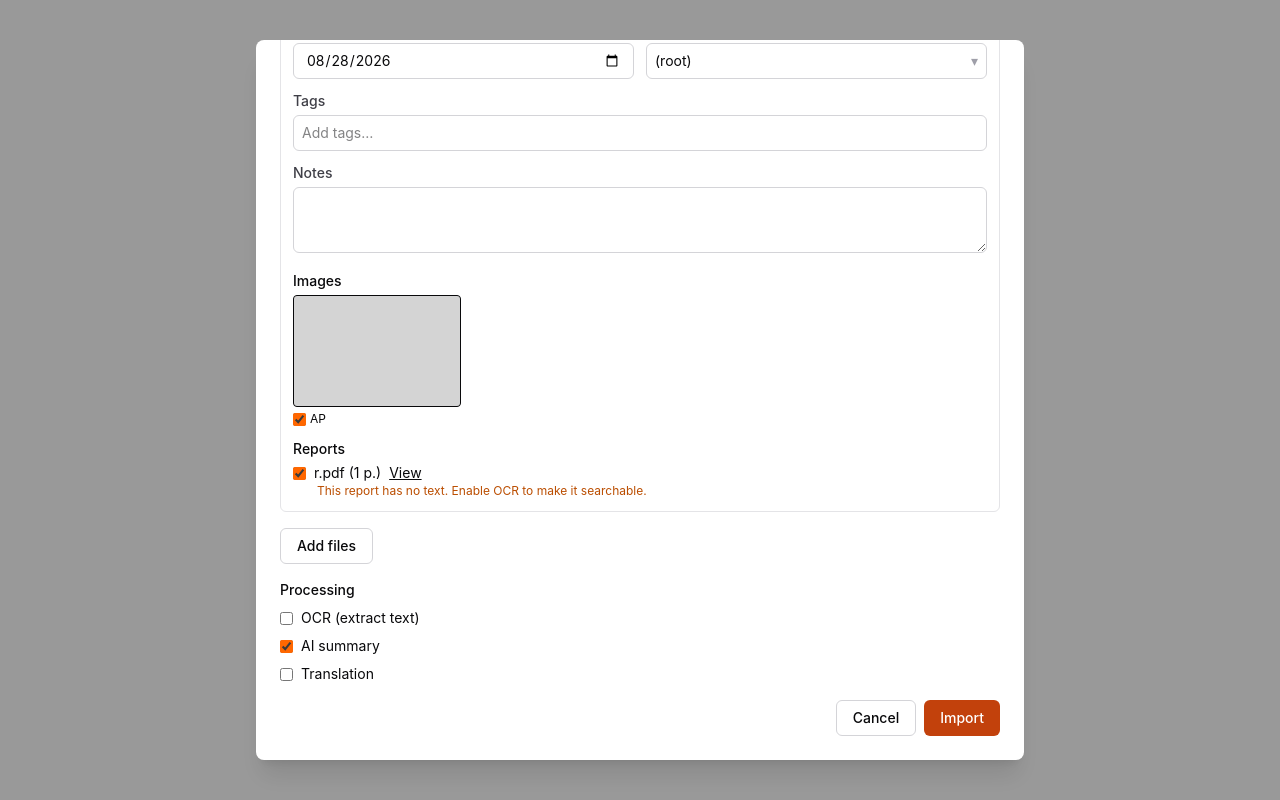
Test: DiscImportDialog › commits the study without tags
The width and height of the screenshot is (1280, 800).
(page scrolled)
Click the button "Import" at (962, 718), box [924,700,1000,736]
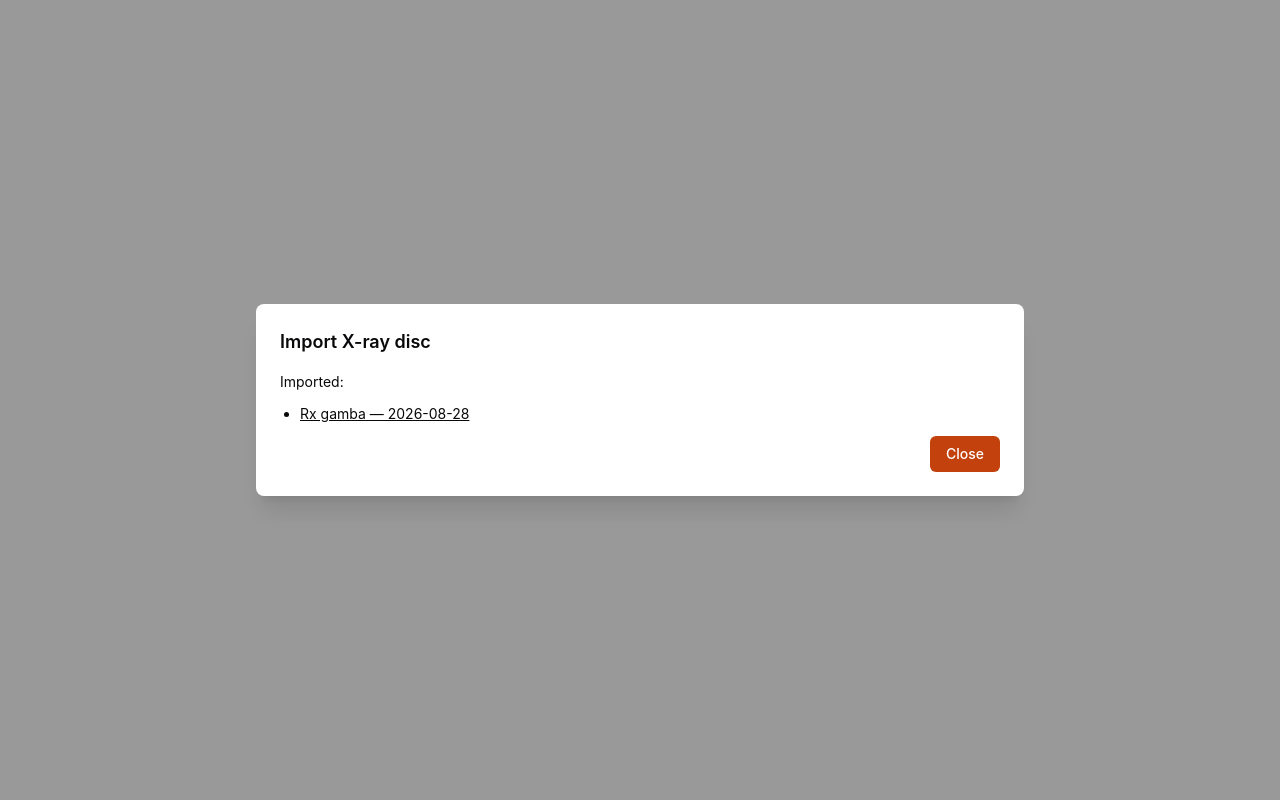
expect the link "Rx gamba — 2026-08-28" is shown: met, box [300,405,469,422]
